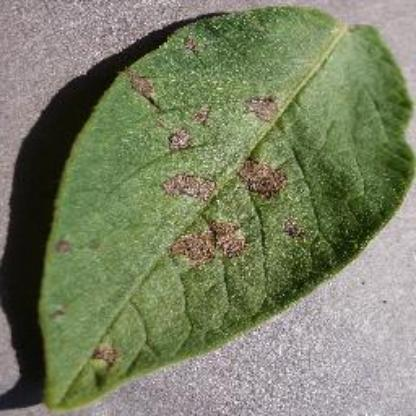Early-Blight: (31, 4, 415, 410)
